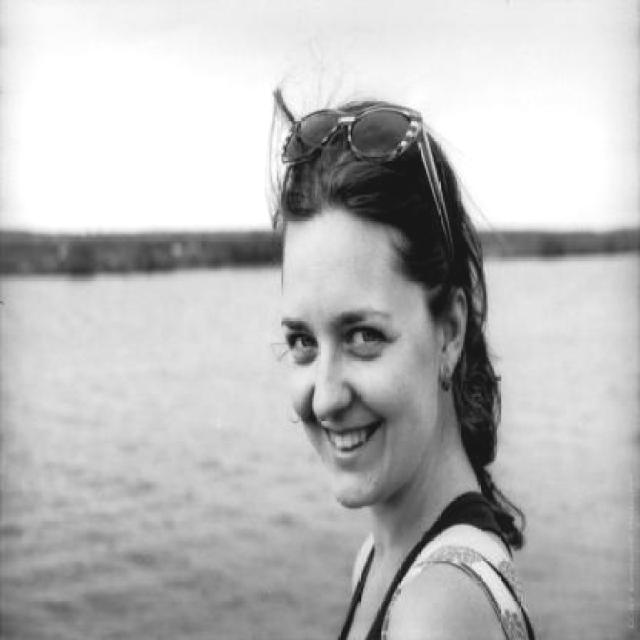face_nomask: (269, 302, 426, 509)
glasses: (286, 102, 443, 188)
